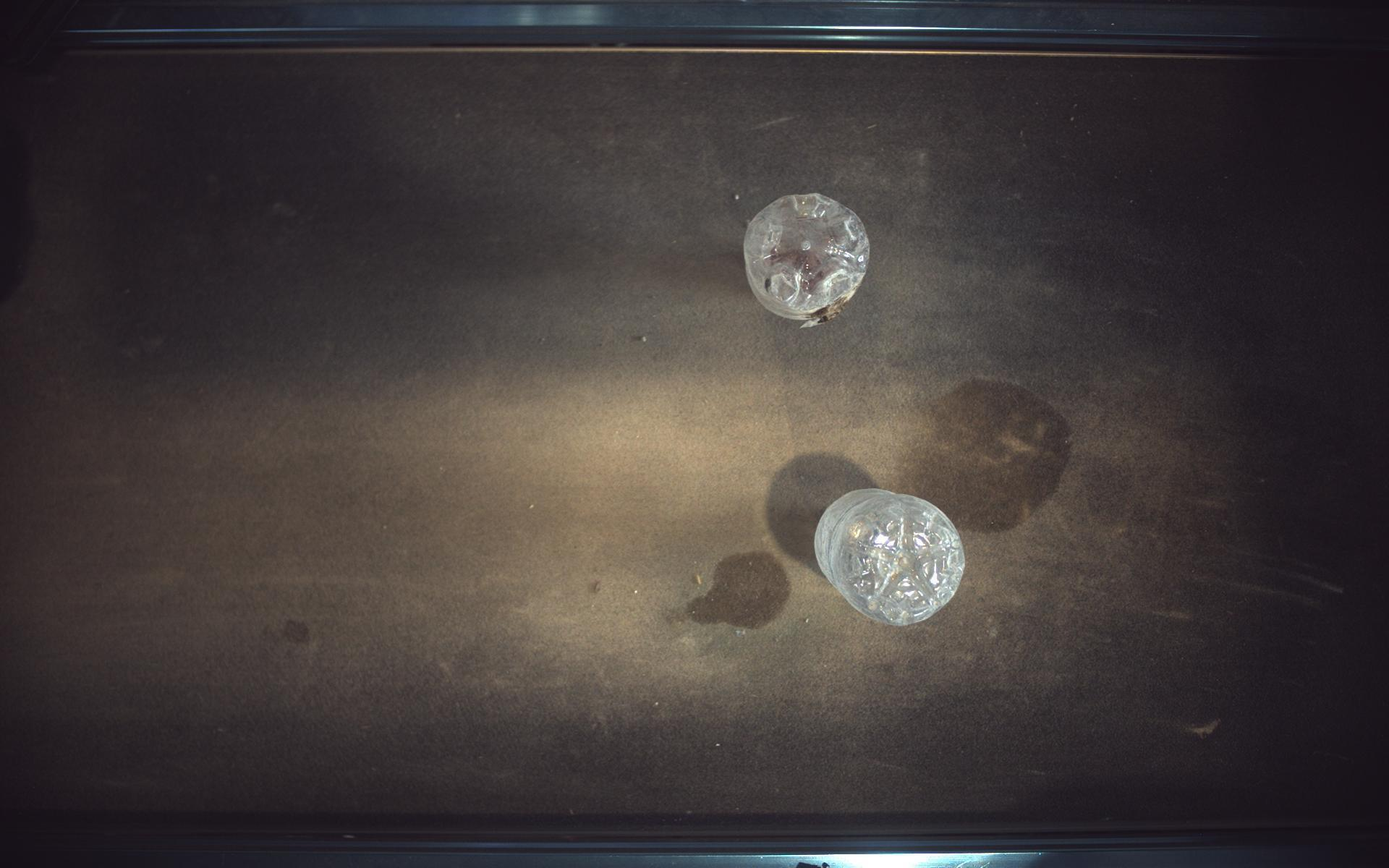general_w: (815, 489, 967, 626), (745, 192, 871, 326)
